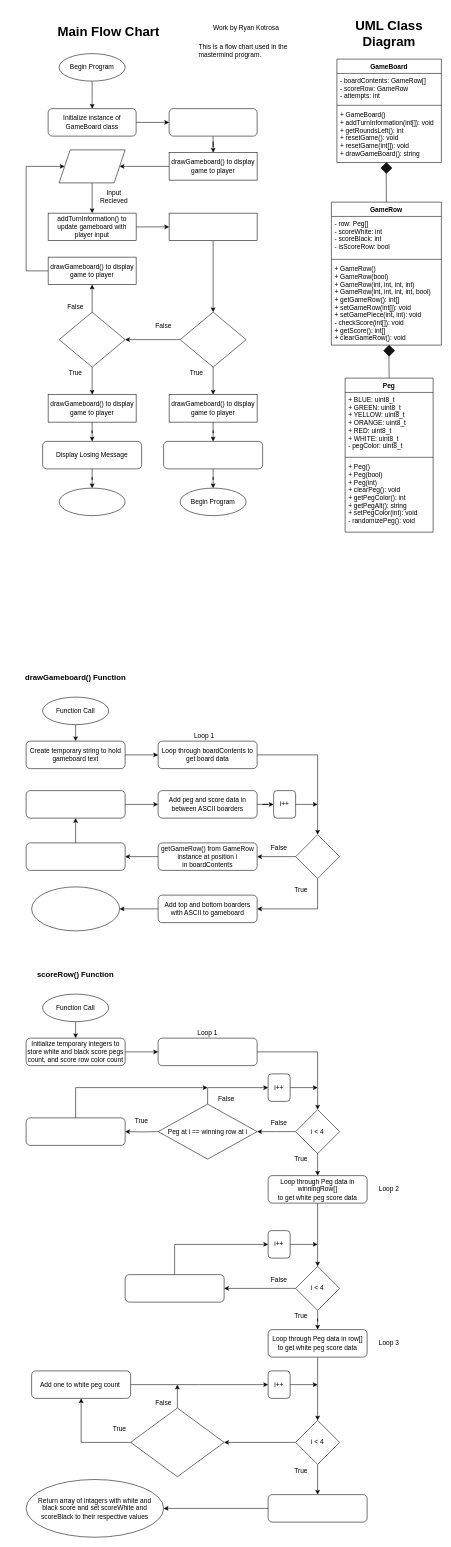
Some shapes in this 451 by 1547 pixel diagram are drawn without their labels. Each missing label, with the centre of its shape:
Add ASCII boarders mimicking game to string: (75,804)
Add one to black score variable: (75,1131)
attempts == 10: (92,339)
Display Winning Message: (213,455)
End: (92,502)
For current color, add one to the corresponding color count variable: (174,1288)
getScore() from GameRow instance at position i in boardContents: (75,856)
i < 10: (317,856)
if current peg color's corresponding variable is > 0: (177,1442)
Loop through Peg data in row[] to get black peg score data: (207,1052)
Prompt player for row input: (92,166)
Return the temporary string to be printed to user: (75,908)
Score is a winning score: (213,339)
scoreRow() to check the score of the player's latest entry: (213,227)
Set scoreRow to random GameRow: (213,122)
White peg count = white peg count - black peg count: (317,1508)
